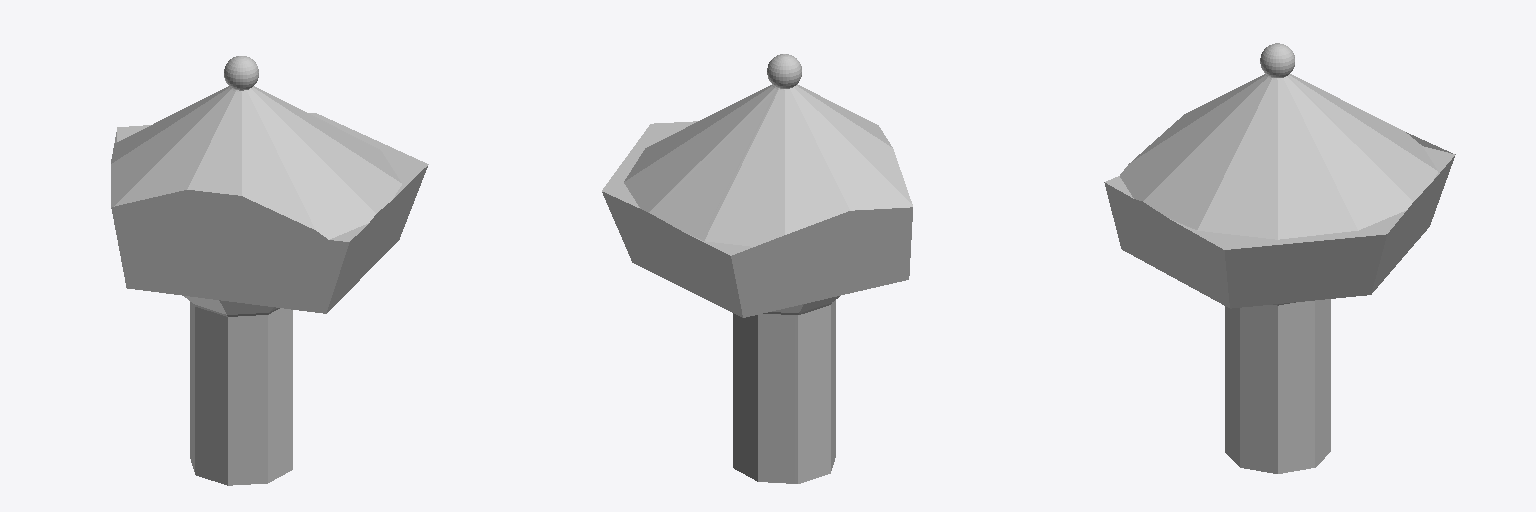
Rendered from 08_Columna.obj.
3 renders of one model, left to right at view 1: azimuth 30°, elevation 25°; view 2: azimuth 150°, elevation 25°; view 3: azimuth 270°, elevation 25°, orthographic.
Parts seen in each view (by area): view 1: 16818_carousel_v1.002; view 2: 16818_carousel_v1.002; view 3: 16818_carousel_v1.002.
Part boxes in pixels (left/top/right/bottom): 16818_carousel_v1.002: left=111, top=56, right=428, bottom=485; 16818_carousel_v1.002: left=602, top=54, right=912, bottom=483; 16818_carousel_v1.002: left=1104, top=43, right=1455, bottom=473.
Size of the model in its own units: 3.5 by 4.69 by 3.67.